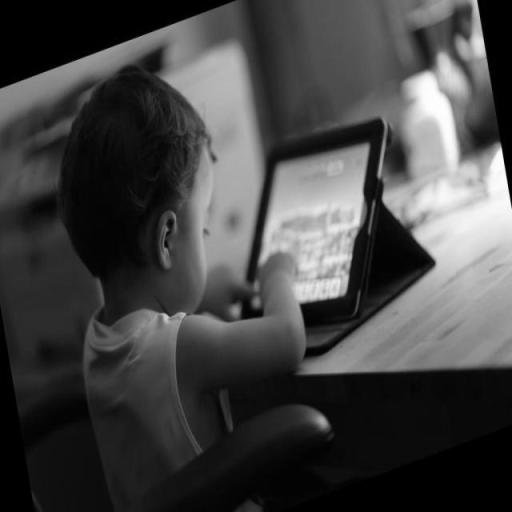phone: (248, 129, 391, 321)
